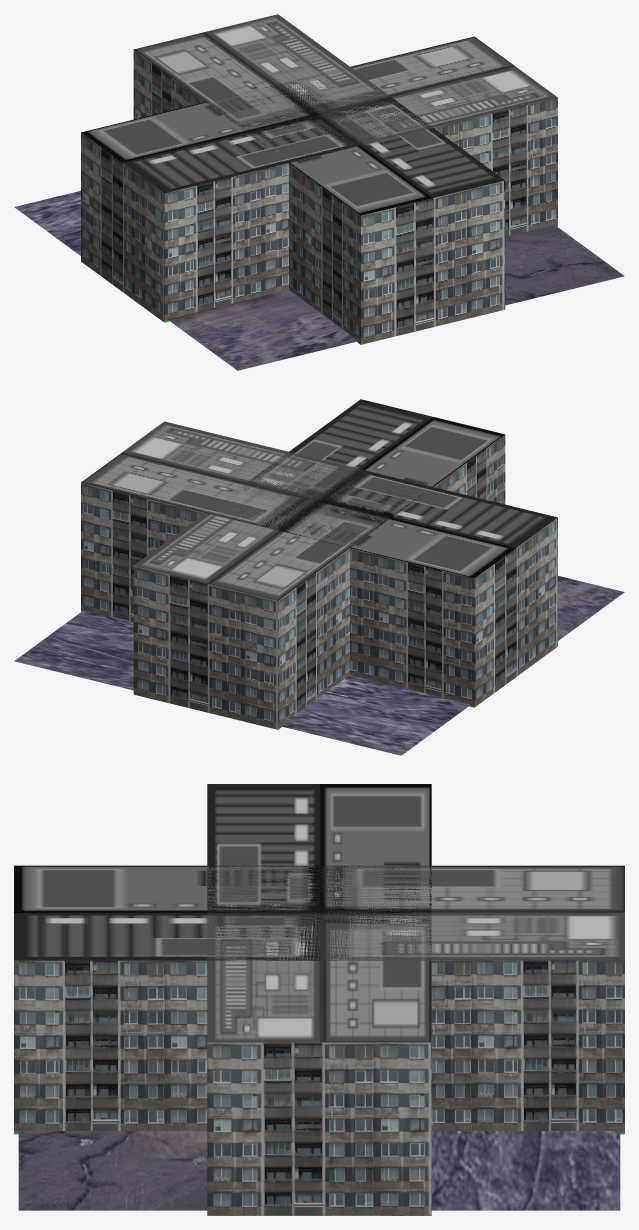
The model's file is city4.gltf.
3 renders of one model, top to bottom at view 1: azimuth 30°, elevation 25°; view 2: azimuth 150°, elevation 25°; view 3: azimuth 270°, elevation 25°, orthographic. The views are drawn at different scales.
Visible parts, largest first — view 1: Cube.001, Plane; view 2: Cube.001, Plane; view 3: Cube.001, Plane.
Part boxes in pixels (<box>): Cube.001: <box>81,14,557,344</box>; Plane: <box>14,191,624,370</box>; Cube.001: <box>81,399,557,729</box>; Plane: <box>14,576,624,755</box>; Cube.001: <box>14,784,624,1215</box>; Plane: <box>18,1131,620,1210</box>.
Size of the model in its own units: 102 by 31.86 by 102.
2 materials, 2 textured.
